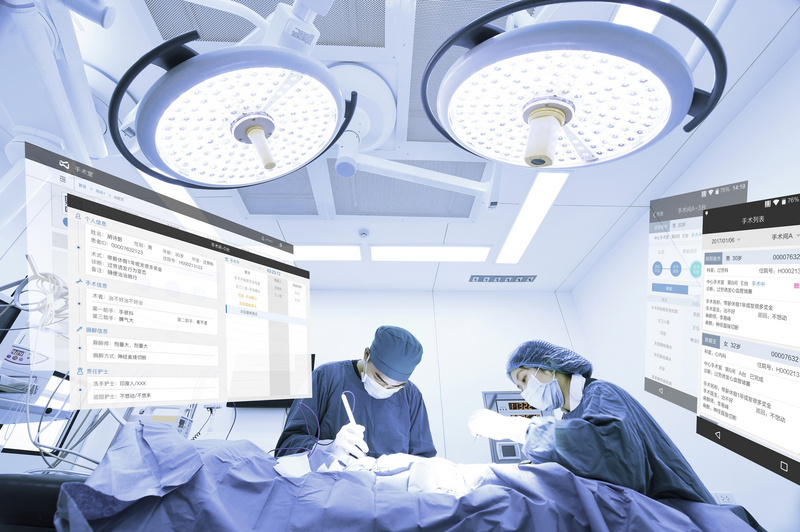rightmask: (510, 336, 586, 415), (359, 325, 409, 403)
